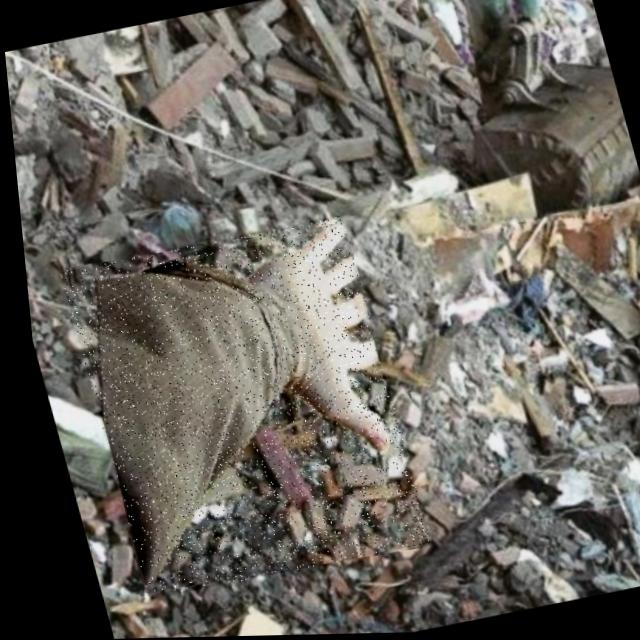Person in Rubble: (49, 215, 423, 600)
